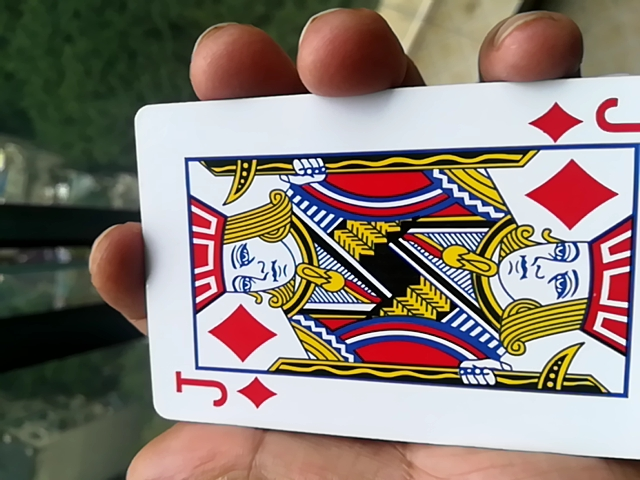fk j: (128, 105, 636, 463)
